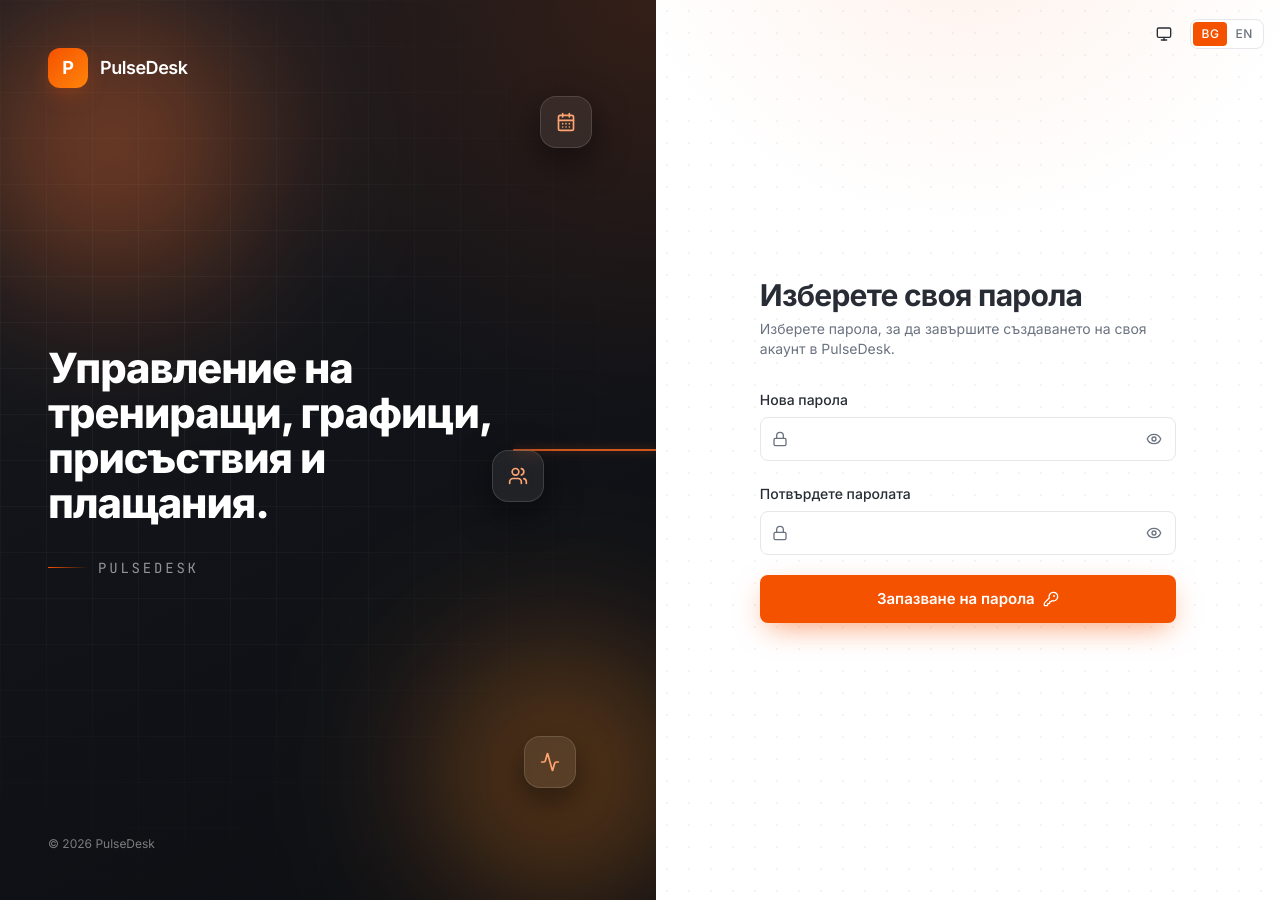
Scenario: AcceptInvitePage › blocks submission when passwords do not match
The width and height of the screenshot is (1280, 900).
In the password field labelled "Нова парола": (968, 439) [760,417,1176,461], type "ChosenByMe1!"
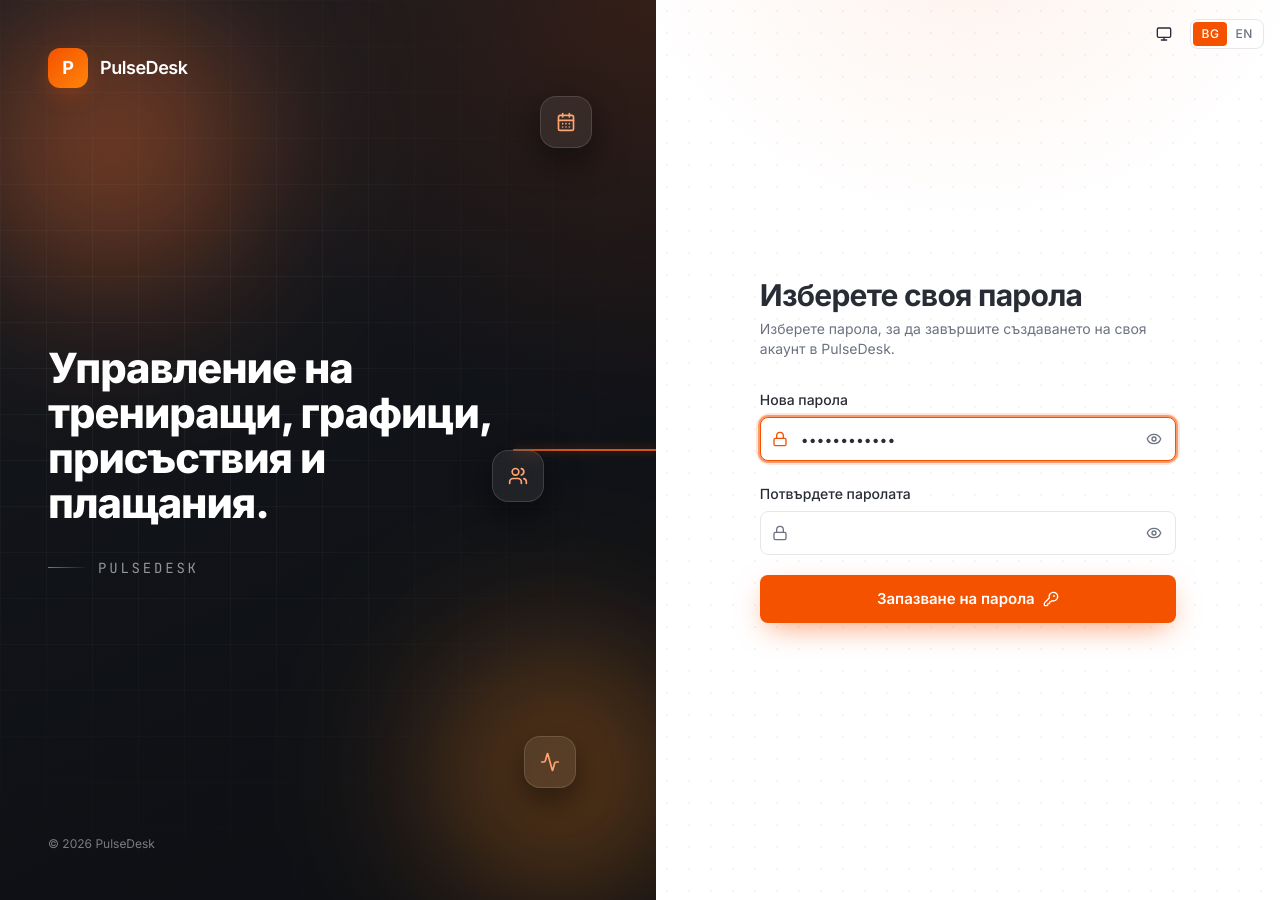
In the password field labelled "Потвърдете паролата": (968, 533) [760,511,1176,555], type "Mismatched1!"
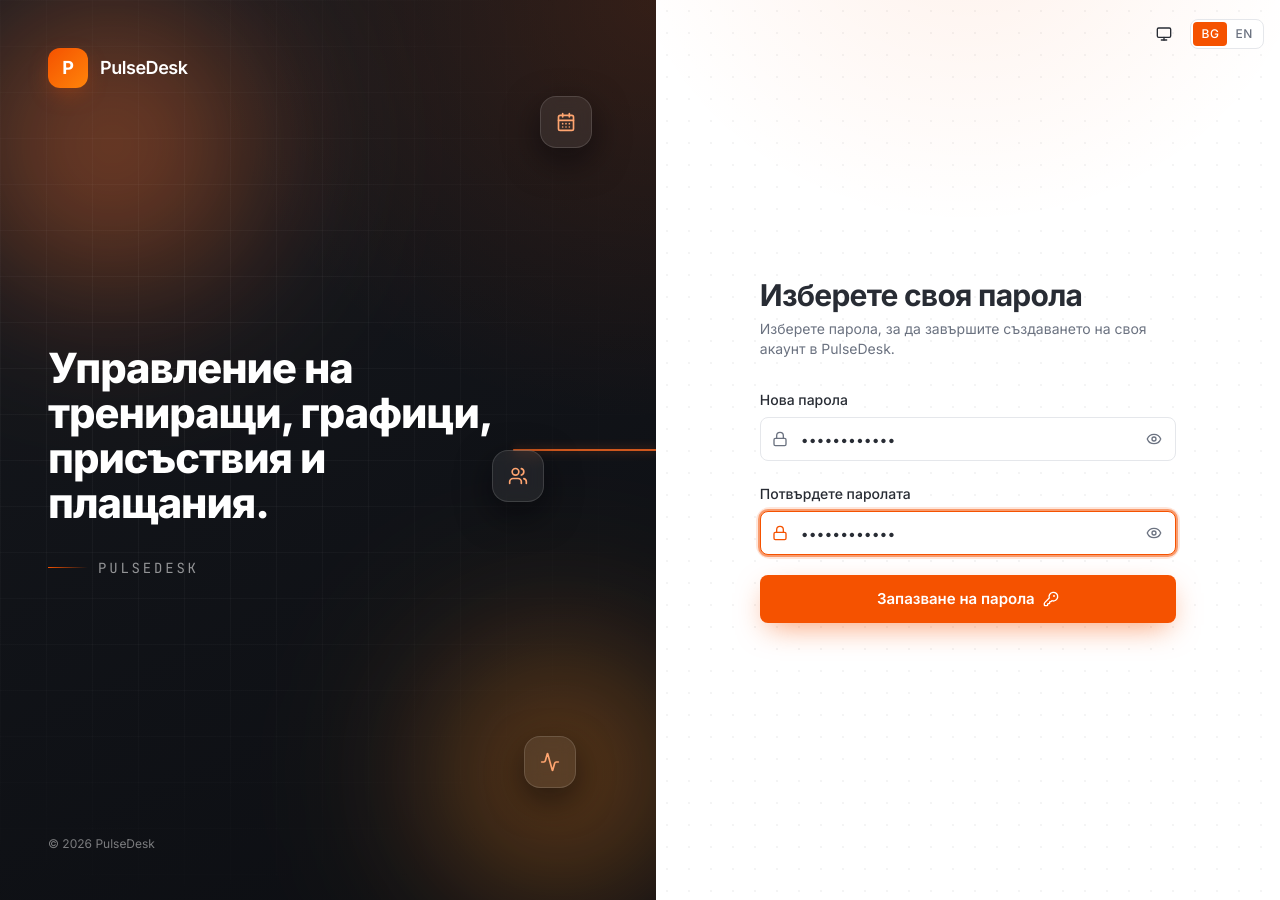
Click the button "Запазване на парола": (968, 599) [760,575,1176,623]
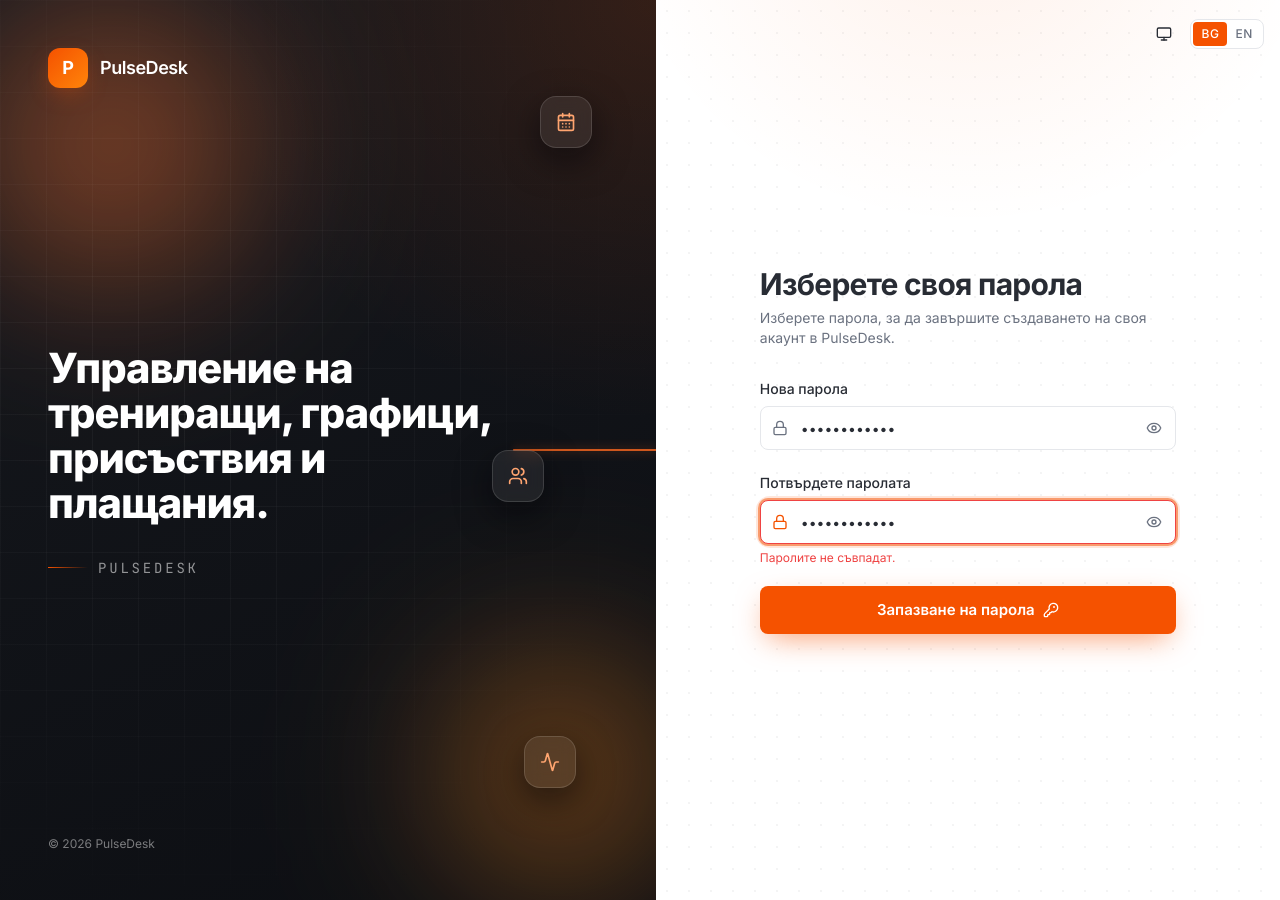
Now the text "Паролите не съвпадат." is shown, box [760,550,896,565]
